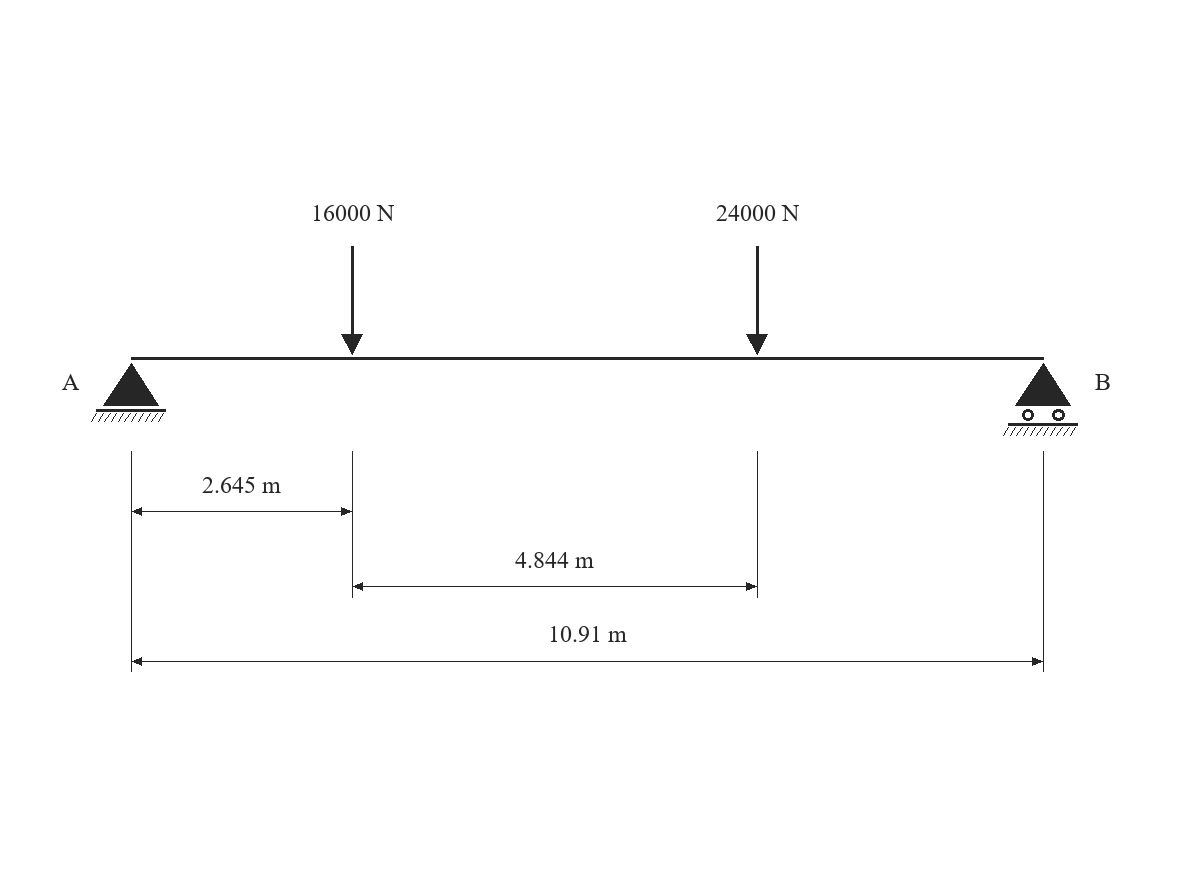pin_support: (91, 363, 166, 422)
point_load: (341, 246, 363, 355), (746, 246, 768, 355)
roller_support: (1003, 363, 1078, 436)
